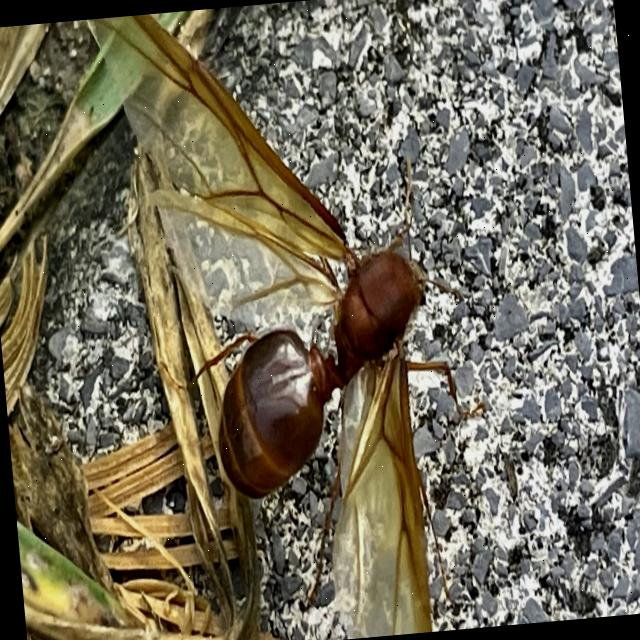Alive-Male-Alate: (83, 0, 506, 640)
